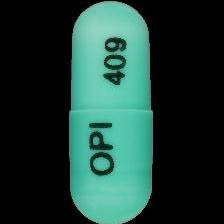68682-409: (0, 0, 224, 224)
